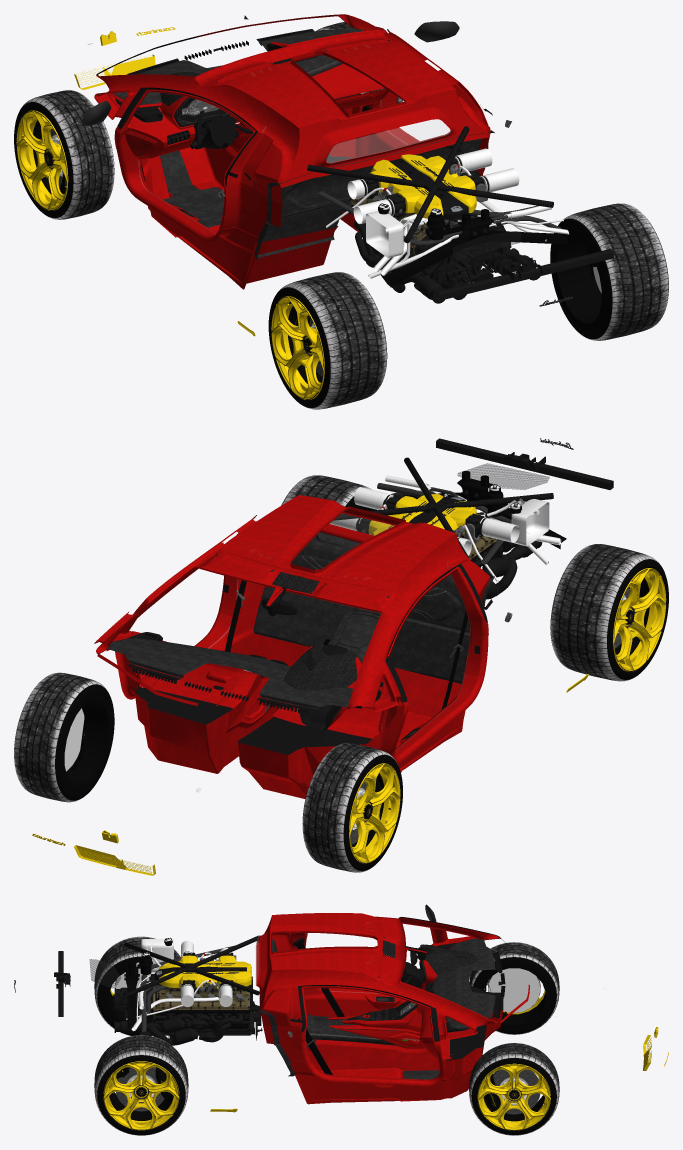
Rendered from car_part2.glb.
3 renders of one model, top to bottom at view 1: azimuth 30°, elevation 25°; view 2: azimuth 150°, elevation 25°; view 3: azimuth 270°, elevation 25°, orthographic. The views are drawn at different scales.
Parts seen in each view (by area): view 1: chassis.015_87, chassis.013_85, wheel_lr.child.001_708, wheel_lr.child.012_225, wheel_lr.child.024_434, chassis.019_91, engineblock2.001_151, wheel_lf.child.011_219, wheel_lf.child.014_330, engineblock2.003_153, engineblock2.011_160, chassis.037_106 (+16 smaller); view 2: chassis.015_87, chassis.019_91, wheel_lr.child.001_708, chassis.013_85, wheel_lr.child.012_225, chassis.017_89, wheel_lf.child.011_219, wheel_lf.child.022_337, engineblock2.001_151, wheel_lf.child.014_330, chassis.008_80, chassis.037_106 (+15 smaller); view 3: chassis.015_87, chassis.013_85, wheel_lr.child.001_708, chassis.019_91, wheel_lf.child.014_330, chassis.017_89, wheel_lr.child.024_434, engineblock2.009_158, engineblock2.001_151, engineblock2.011_160, wheel_lf.child.022_337, wheel_lr.child.025_435 (+20 smaller).
Part boxes in pixels (x1,y1,x2,y2): chassis.015_87: [94, 14, 490, 283]; chassis.013_85: [107, 63, 489, 289]; wheel_lr.child.001_708: [16, 27, 476, 399]; wheel_lr.child.012_225: [278, 272, 386, 409]; wheel_lr.child.024_434: [559, 203, 668, 340]; chassis.019_91: [112, 27, 494, 261]; engineblock2.001_151: [326, 148, 568, 278]; wheel_lf.child.011_219: [20, 90, 114, 219]; wheel_lf.child.014_330: [33, 120, 606, 383]; engineblock2.003_153: [378, 207, 567, 287]; engineblock2.011_160: [352, 154, 512, 299]; chassis.037_106: [127, 29, 313, 149]; chassis.015_87: [94, 495, 488, 798]; chassis.019_91: [108, 532, 494, 712]; wheel_lr.child.001_708: [32, 494, 666, 875]; chassis.013_85: [106, 500, 490, 795]; wheel_lr.child.012_225: [550, 544, 660, 681]; chassis.017_89: [99, 515, 492, 754]; wheel_lf.child.011_219: [302, 743, 398, 872]; wheel_lf.child.022_337: [14, 672, 107, 802]; engineblock2.001_151: [329, 475, 561, 582]; wheel_lf.child.014_330: [60, 504, 649, 846]; chassis.008_80: [284, 644, 361, 690]; chassis.037_106: [127, 639, 383, 730]; chassis.015_87: [261, 913, 529, 1101]; chassis.013_85: [256, 916, 476, 1104]; wheel_lr.child.001_708: [103, 955, 668, 1130]; chassis.019_91: [258, 935, 495, 1076]; wheel_lf.child.014_330: [103, 962, 551, 1121]; chassis.017_89: [290, 917, 507, 1072]; wheel_lr.child.024_434: [94, 1035, 188, 1135]; engineblock2.009_158: [114, 987, 245, 1045]; engineblock2.001_151: [126, 938, 232, 1031]; engineblock2.011_160: [113, 952, 259, 1038]; wheel_lf.child.022_337: [469, 1043, 559, 1135]; wheel_lr.child.025_435: [97, 1055, 185, 1135].
Size of what is drawn, in the model's own units: 2.36 by 1.17 by 4.95.
Materials: 53 (45 with a texture image).
